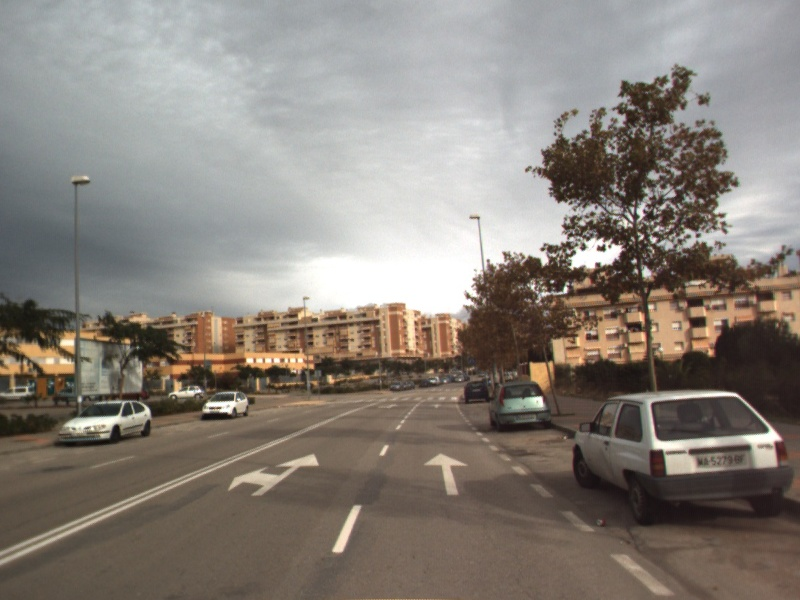STRAIGHT: (421, 450, 471, 497)
STRAIGHT_LEFT: (226, 451, 322, 498)
